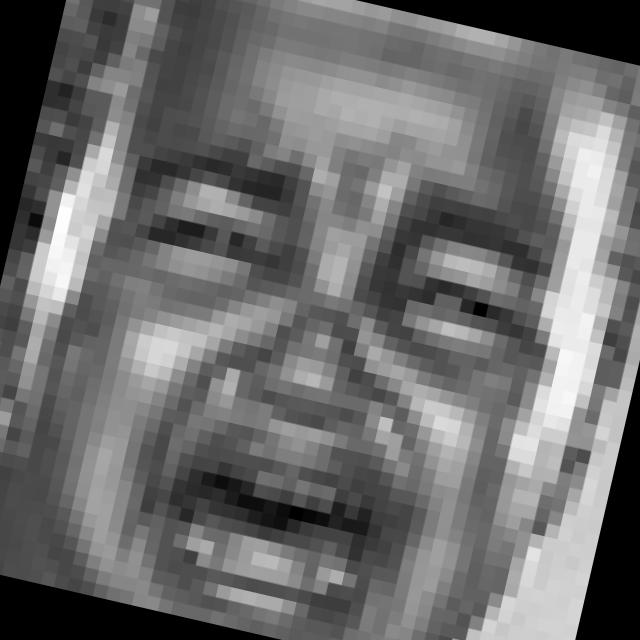sad: (47, 90, 584, 640)
